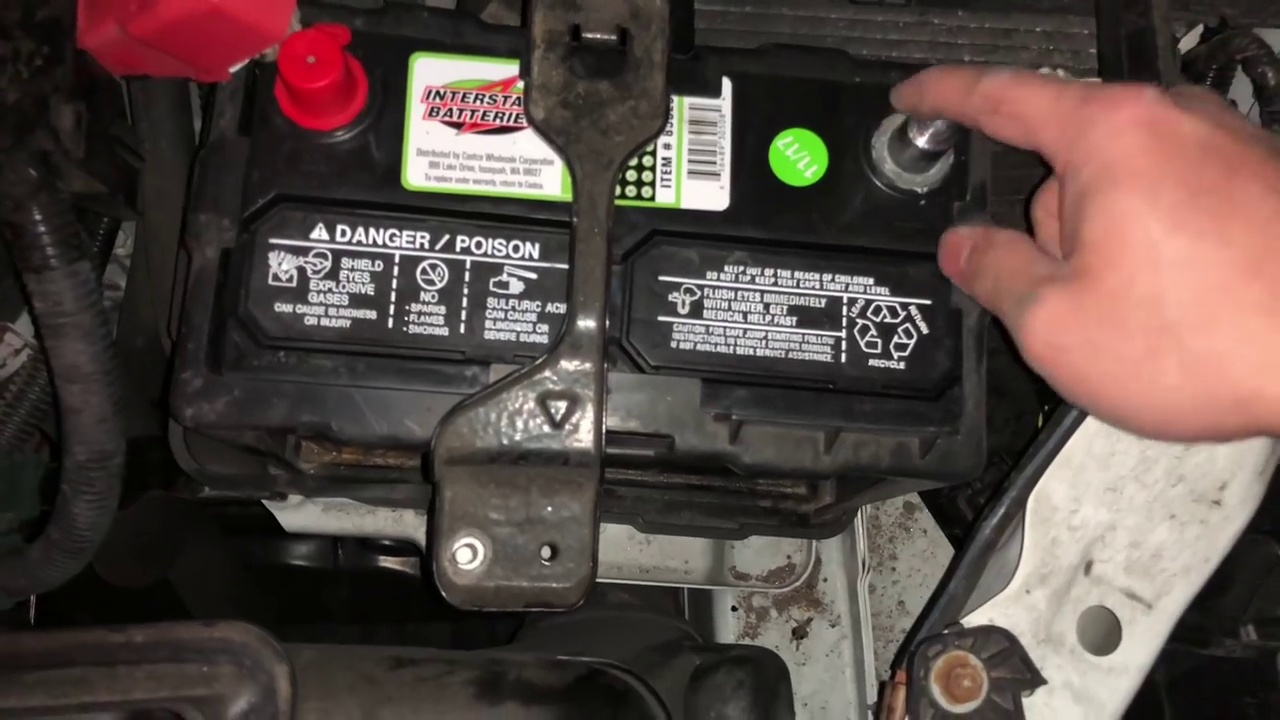battery: (255, 19, 967, 403)
neg_touched: (857, 67, 1128, 298)
pos_disconnected: (112, 3, 367, 130)
